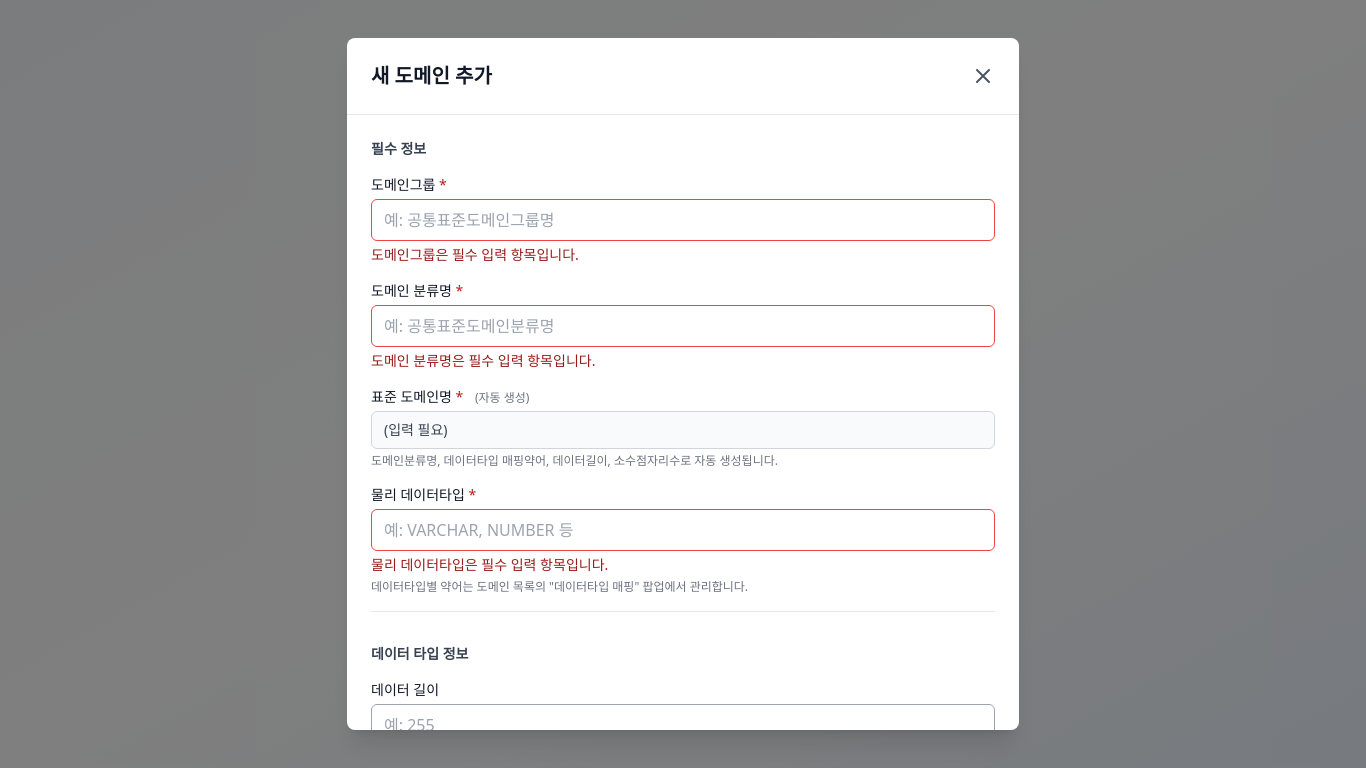
Test: DomainEditor › Form Validation › should show error message for empty required field after input and clear
In the field labelled "도메인그룹 *": (683, 220) [371,199,995,241], type "공통표준도메인그룹"
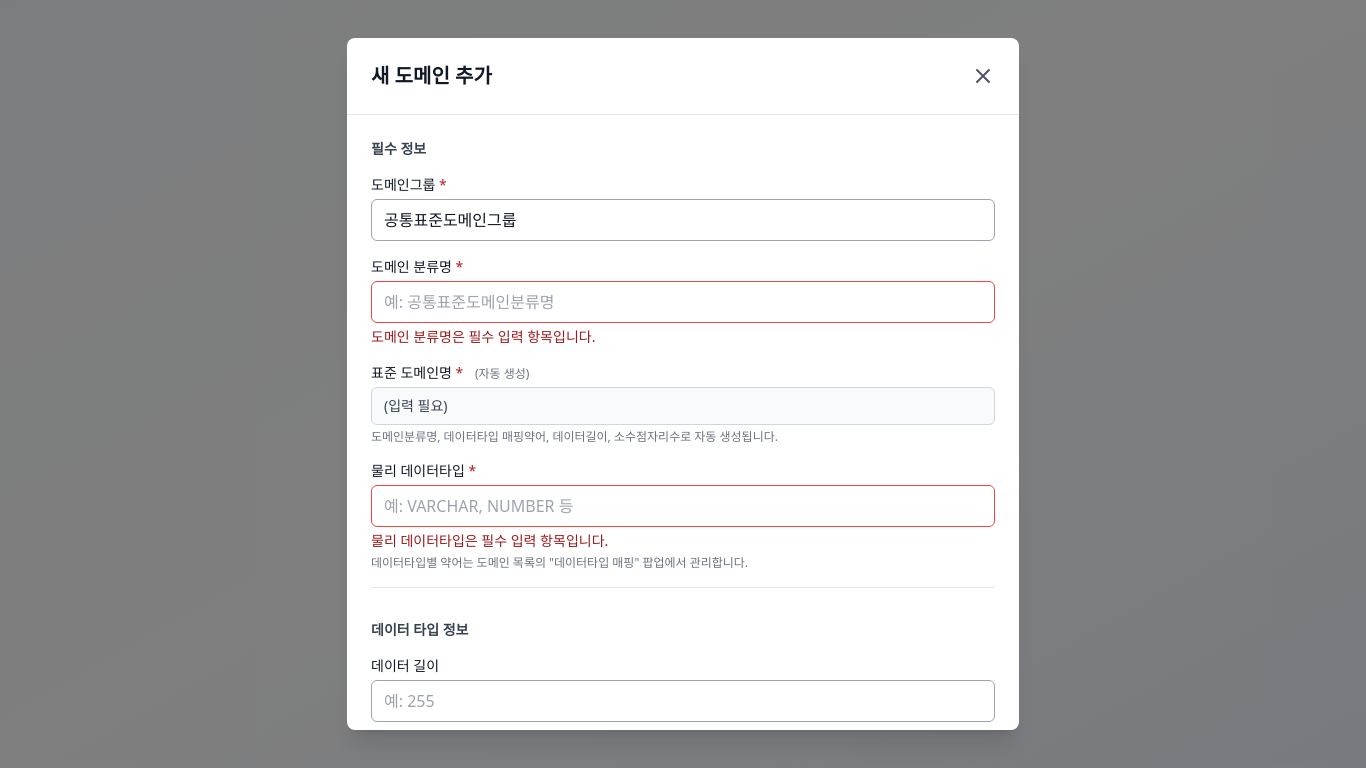
Clear the field labelled "도메인그룹 *": (683, 220) [371,199,995,241]
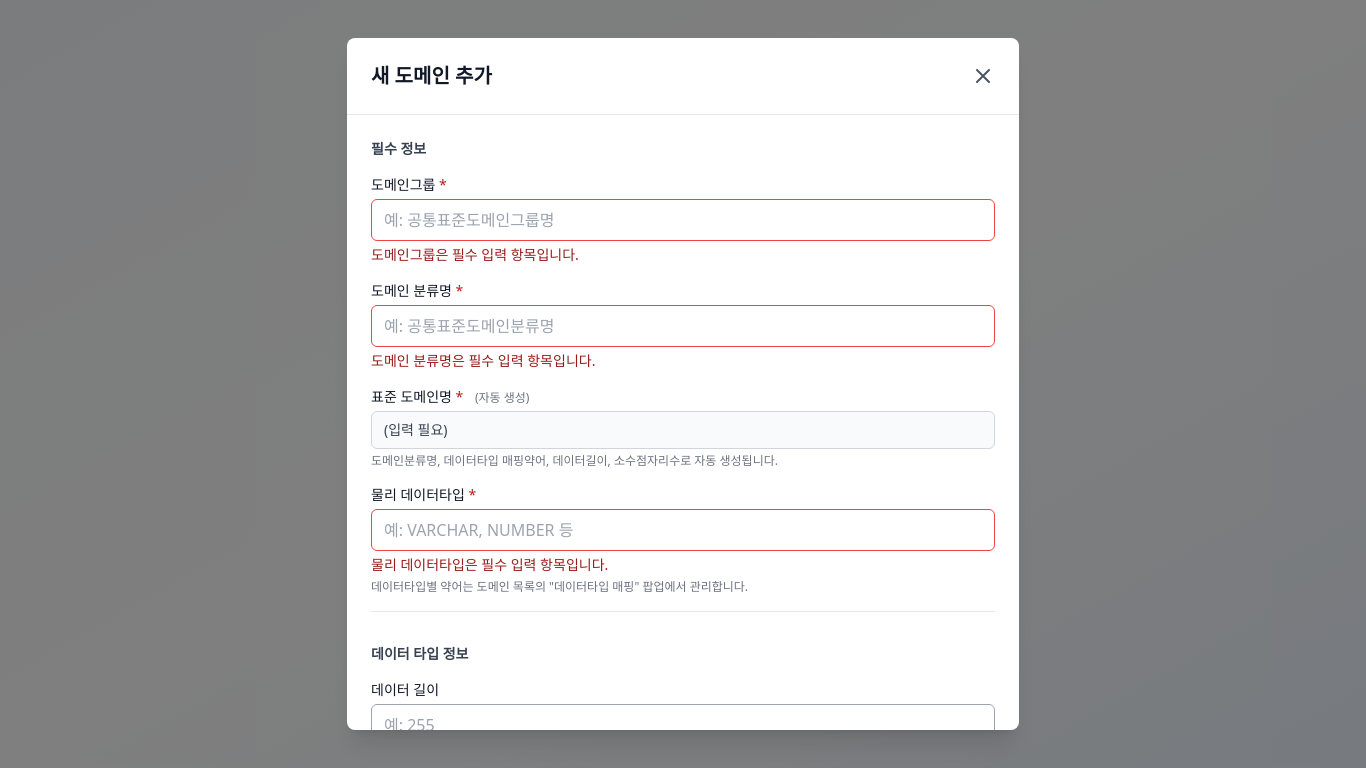
Expected: the text "도메인그룹은 필수 입력 항목입니다." is shown, [371,245,579,264]
